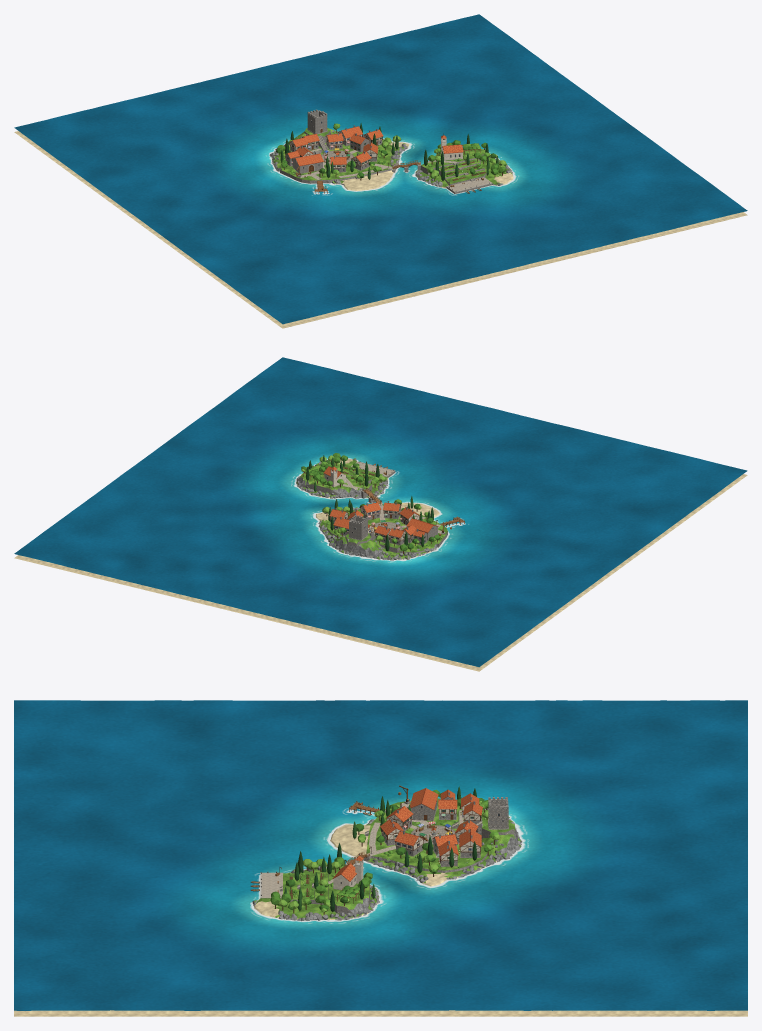
The model's file is HarborMap.fbx.
The picture shows the model from 3 angles, top to bottom: view 1: azimuth 30°, elevation 25°; view 2: azimuth 150°, elevation 25°; view 3: azimuth 270°, elevation 25°; orthographic projection. The views are drawn at different scales.
Visible parts, largest first — view 1: WAT_Ocean, TER_Seabed, TER_MainIsland, TER_SmallIsland; view 2: WAT_Ocean, TER_Seabed, TER_MainIsland, TER_SmallIsland; view 3: WAT_Ocean, TER_Seabed, TER_MainIsland, TER_SmallIsland, BLD_Warehouse_LOD0, TWR_Watchtower_LOD0, BLD_Chapel_LOD0, DCK_Quay_SmallIsland, BLD_House_N2_LOD0.
Boxes of the visible parts, x1=… form: WAT_Ocean: x1=14, y1=14, x2=747, y2=324; TER_Seabed: x1=14, y1=131, x2=747, y2=328; TER_MainIsland: x1=272, y1=128, x2=409, y2=190; TER_SmallIsland: x1=415, y1=149, x2=513, y2=188; WAT_Ocean: x1=14, y1=357, x2=747, y2=667; TER_Seabed: x1=14, y1=474, x2=747, y2=671; TER_MainIsland: x1=316, y1=503, x2=447, y2=559; TER_SmallIsland: x1=296, y1=458, x2=387, y2=497; WAT_Ocean: x1=14, y1=700, x2=747, y2=1010; TER_Seabed: x1=14, y1=1010, x2=747, y2=1016; TER_MainIsland: x1=330, y1=798, x2=518, y2=886; TER_SmallIsland: x1=253, y1=864, x2=379, y2=920; BLD_Warehouse_LOD0: x1=410, y1=788, x2=438, y2=820; TWR_Watchtower_LOD0: x1=487, y1=797, x2=508, y2=829; BLD_Chapel_LOD0: x1=332, y1=854, x2=363, y2=889; DCK_Quay_SmallIsland: x1=260, y1=871, x2=283, y2=898; BLD_House_N2_LOD0: x1=458, y1=829, x2=481, y2=857.
Size of what is drawn, in the model's own units: 300 by 21.5 by 300.
11 materials, 11 textured.
